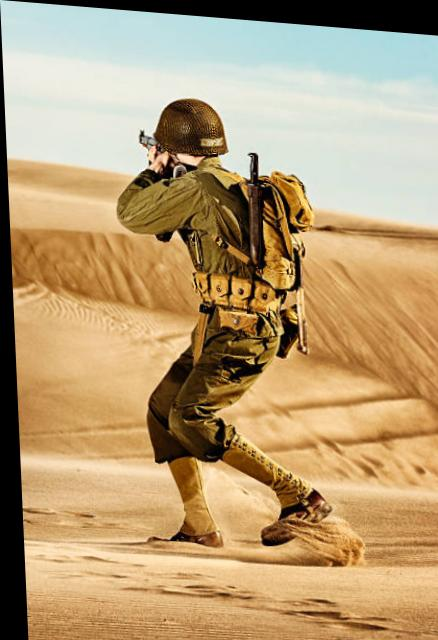other: (111, 87, 320, 539)
